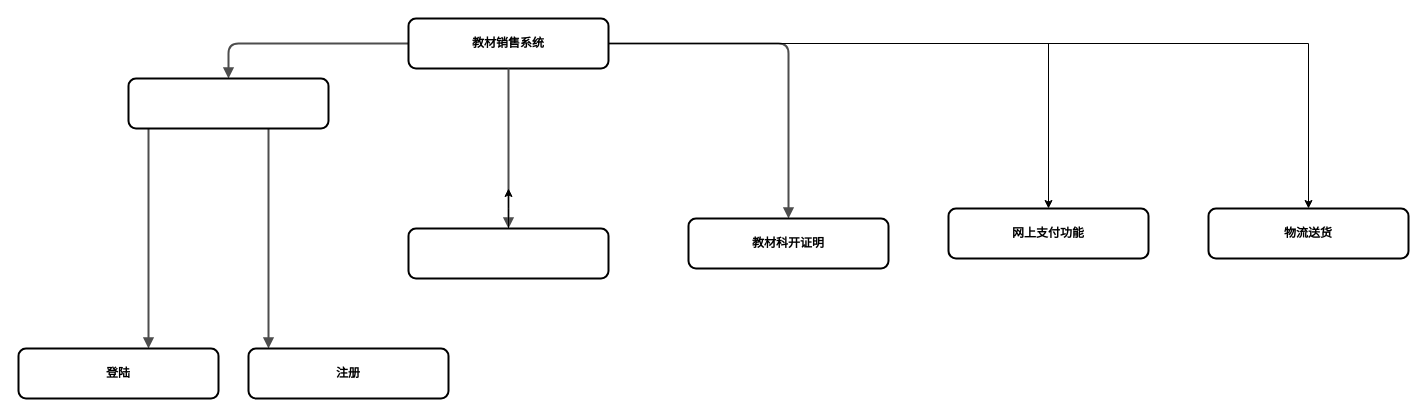
Image size: 1426x416. Some labels were removed from this diagram. Here are the shapes that lost their labels. From the top down, the centre of each, then its label:
(228,103): 登陆注册
(508,253): 提交购书申请
